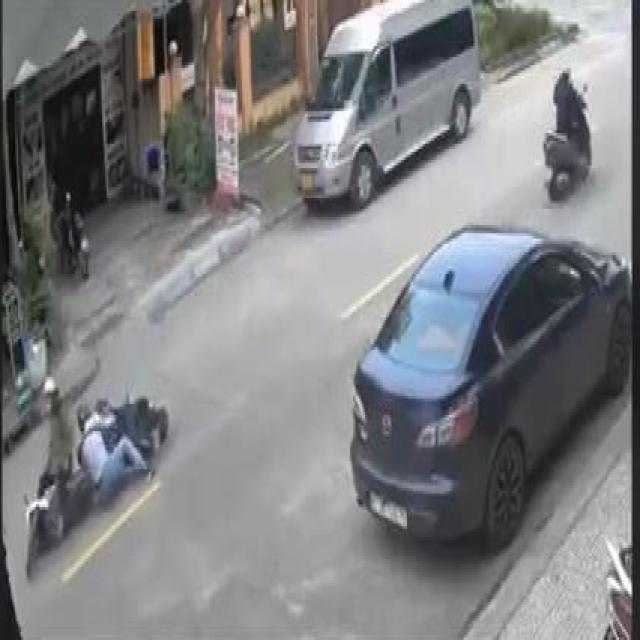accident: (18, 372, 174, 596)
